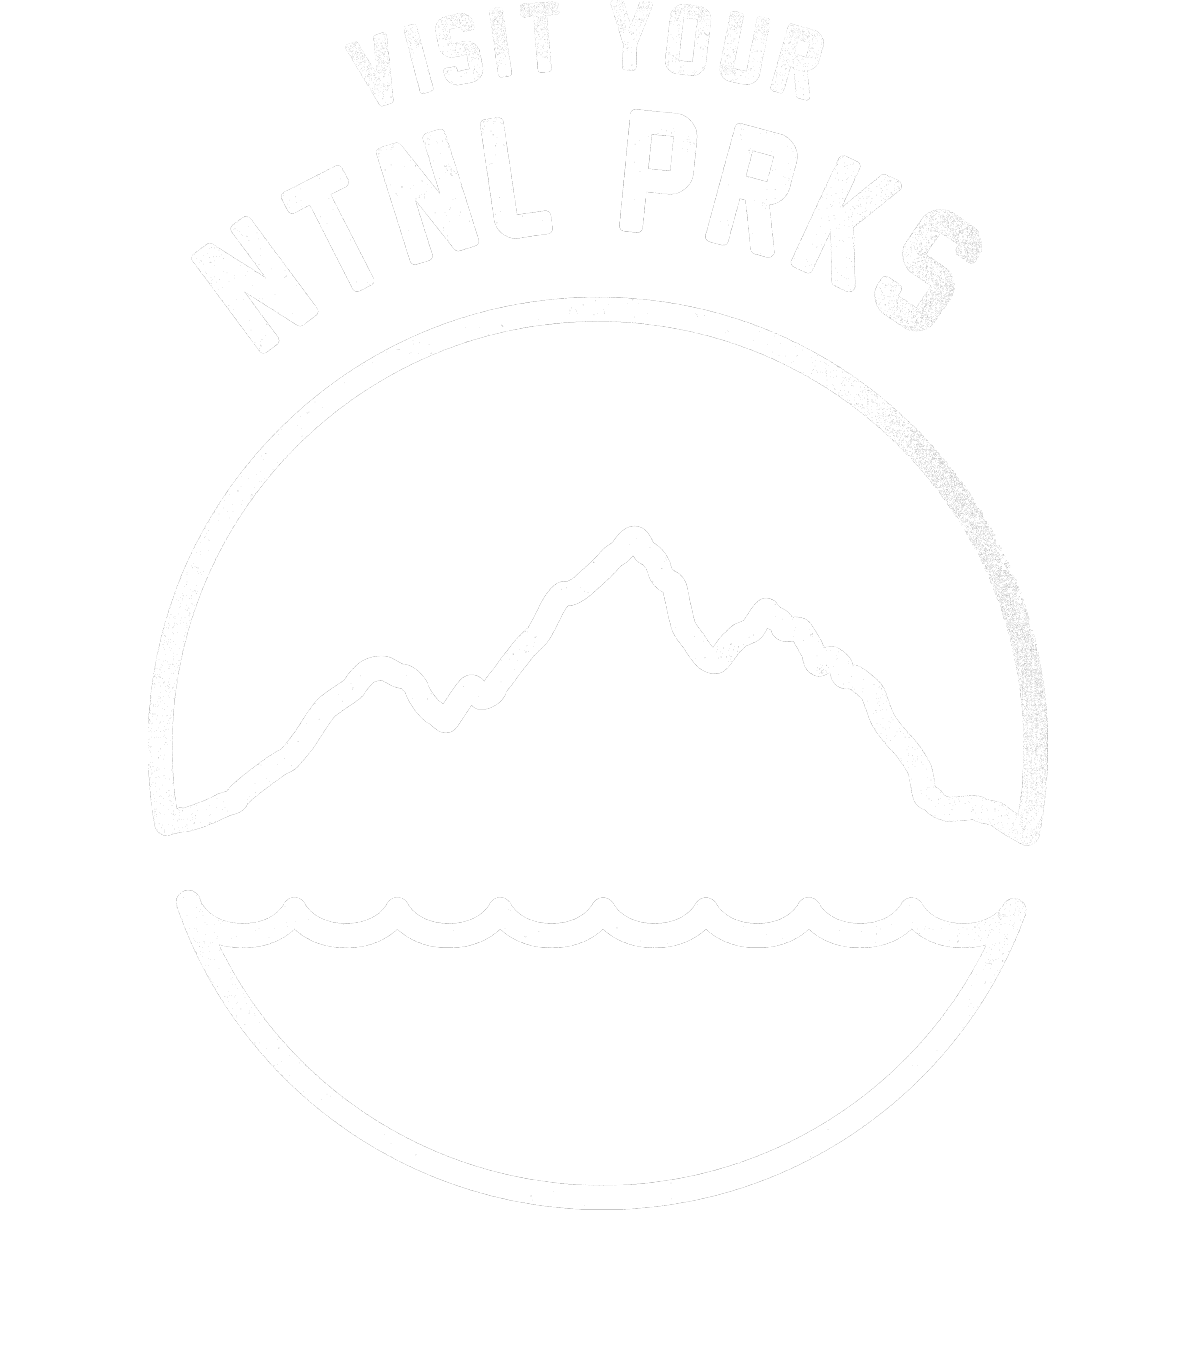design: (136, 1, 1078, 1233)
